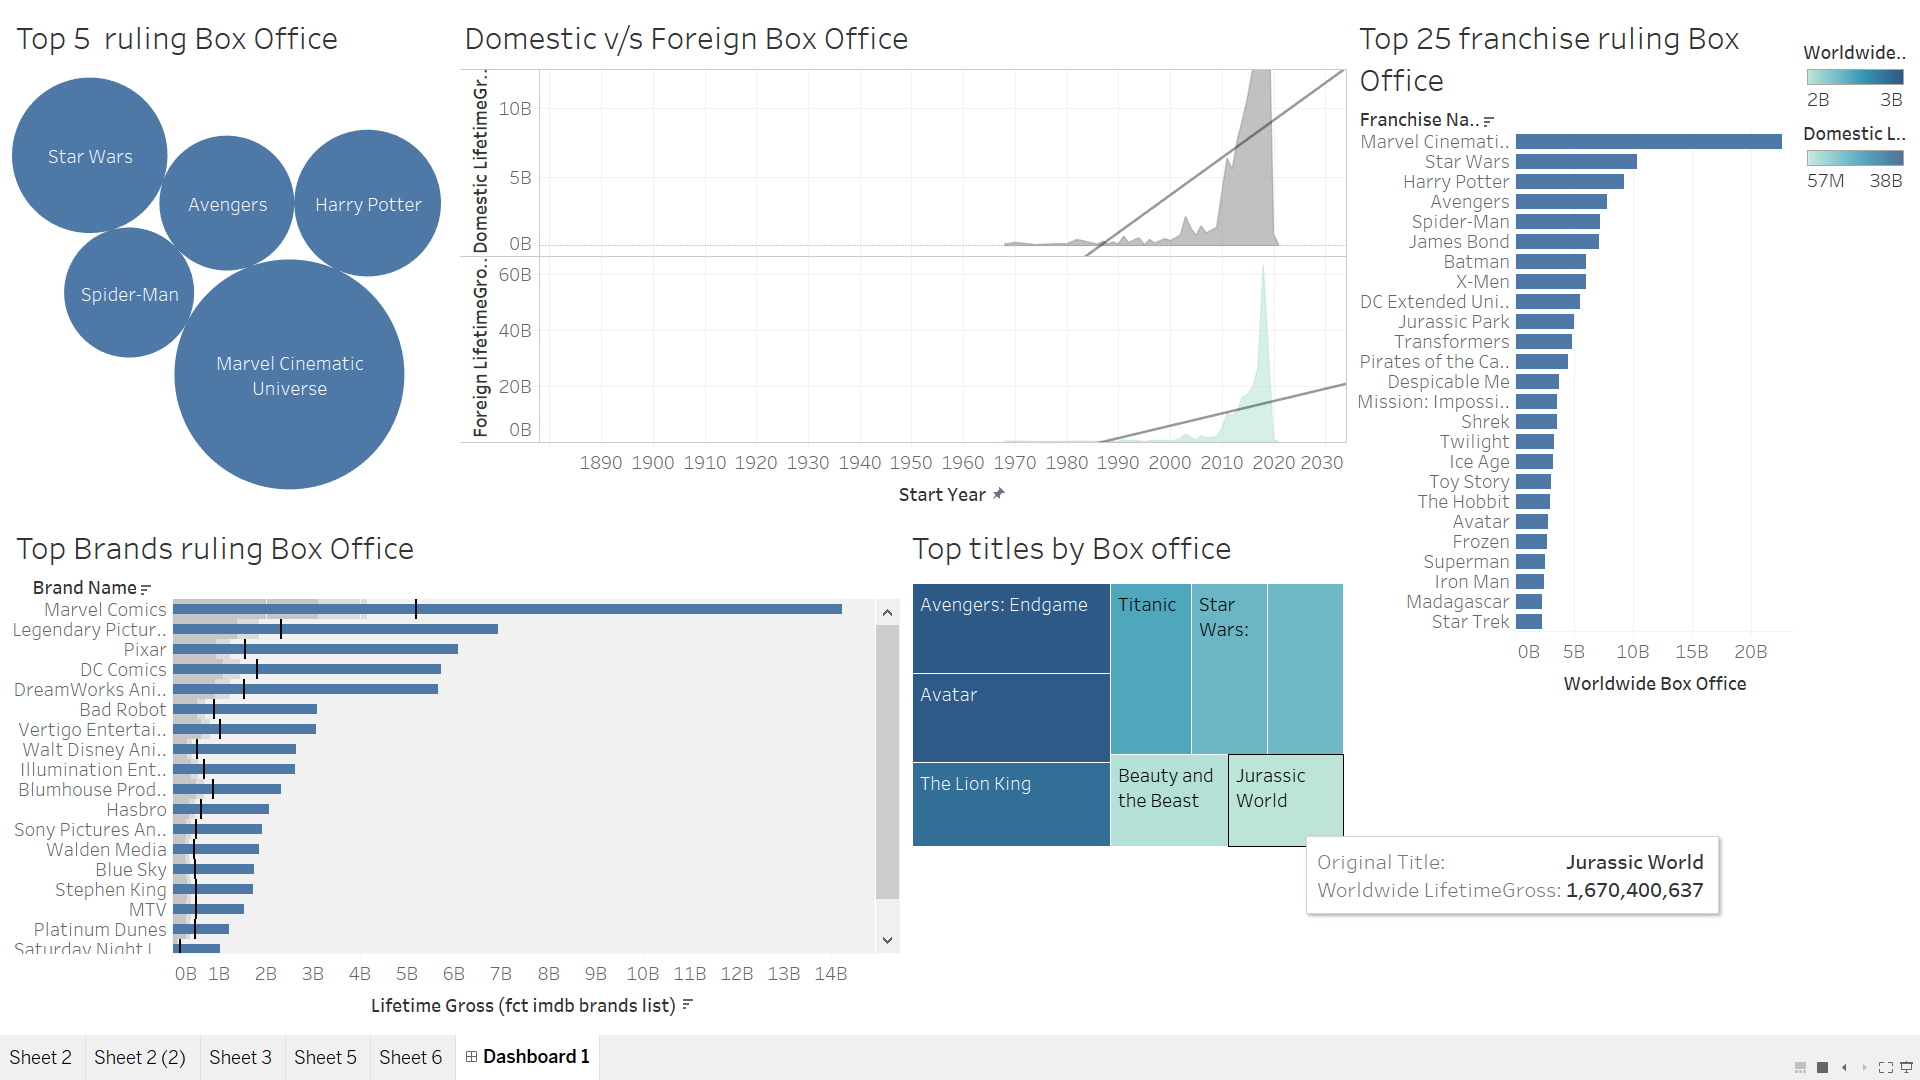

What the dashboard file says about the page in this screenshot:
{"tool":"tableau","page":{"name":"Dashboard 1","canvas":[1000,1000],"units":"permille","ordinal":0},"visuals":[{"type":"worksheet","title":"Sheet 2 (2)","mark":"Circle","box":[5.3,9.3,228.8,490.7]},{"type":"worksheet","title":"Sheet 6","mark":"Automatic","rows":["Domestic_LifetimeGross","Foreign_LifetimeGross"],"cols":["startYear"],"box":[234,9.3,457.5,490.7]},{"type":"worksheet","title":"Sheet 2","mark":"Automatic","rows":["Franchise_Name"],"cols":["Worldwide_Box_Office"],"box":[691.5,9.3,228.8,981.4]},{"type":"legend","title":"Sheet 2 (2)","param":"[federated.03vbp611k8hdht1e9fm7d1oq0mfk].[sum:Worldwide_Box_Office:qk]","box":[920.3,9.3,74.4,27.9]},{"type":"legend","title":"Sheet 5","param":"[federated.0r2nrgm14vzdhv1fhs53w0p6ha99].[sum:Worldwide_LifetimeGross:qk]","box":[920.3,37.2,74.4,84.8]},{"type":"legend","title":"Sheet 6","param":"[federated.0r2nrgm14vzdhv1fhs53w0p6ha99].[sum:Domestic_LifetimeGross:qk]","box":[920.3,121.9,74.4,84.8]},{"type":"worksheet","title":"Sheet 3","mark":"Automatic","rows":["Brand_Name"],"cols":["Lifetime_Gross (fct_imdb_brands_list)"],"box":[5.3,500,457.8,490.7]},{"type":"worksheet","title":"Sheet 5","mark":"Automatic","box":[463.1,500,228.4,490.7]}]}

Visuals, with their boxes on the dashboard's canvas, which has no fixed pixel size, in thousandths of its width and height (x1, y1, x2, y2). These are canvas units, not pixel positions in the 1920x1080 screenshot, which may show the page scaled, cropped or inside an application window:
"Sheet 2 (2)" worksheet (Circle marks): locate(5, 9, 234, 500)
"Sheet 6" worksheet: locate(234, 9, 692, 500)
"Sheet 2" worksheet: locate(692, 9, 920, 991)
"Sheet 2 (2)" legend: locate(920, 9, 995, 37)
"Sheet 5" legend: locate(920, 37, 995, 122)
"Sheet 6" legend: locate(920, 122, 995, 207)
"Sheet 3" worksheet: locate(5, 500, 463, 991)
"Sheet 5" worksheet: locate(463, 500, 692, 991)
